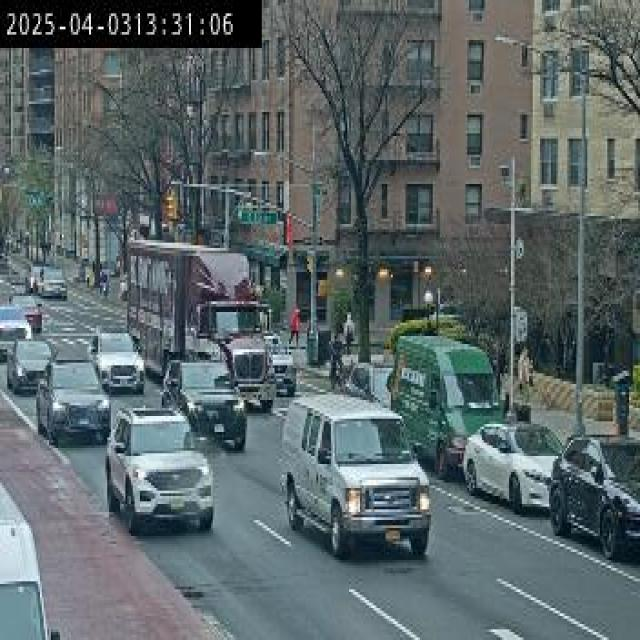open parking: (266, 194, 459, 458)
